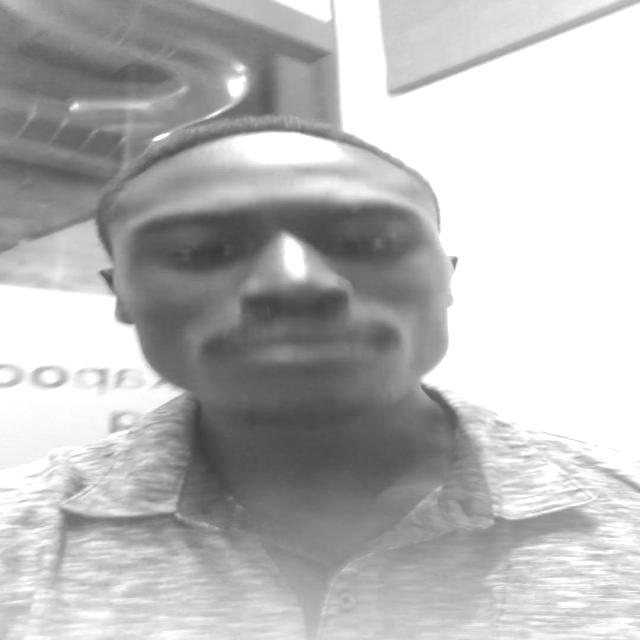real: (98, 128, 456, 422)
